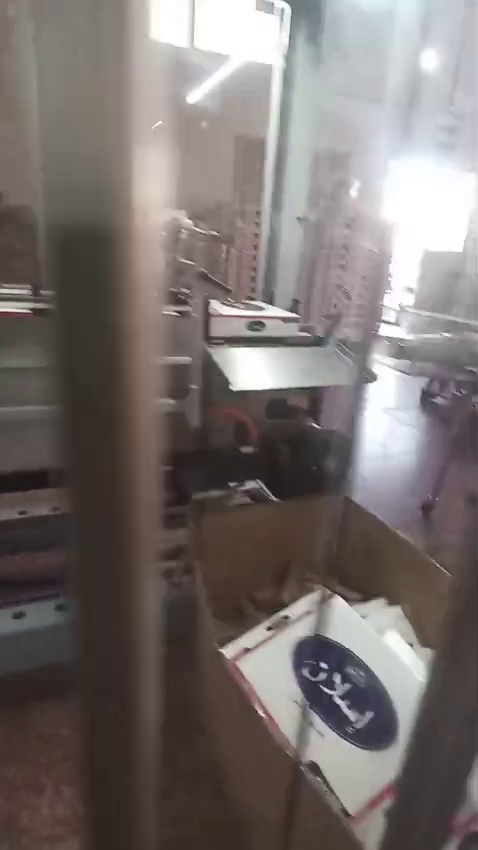savon: (157, 496, 358, 850), (61, 208, 200, 712), (336, 514, 456, 650), (153, 364, 176, 400), (468, 561, 478, 624), (15, 221, 35, 240), (70, 722, 80, 748), (6, 826, 16, 850), (112, 758, 122, 781), (177, 514, 188, 528), (96, 736, 104, 752)
